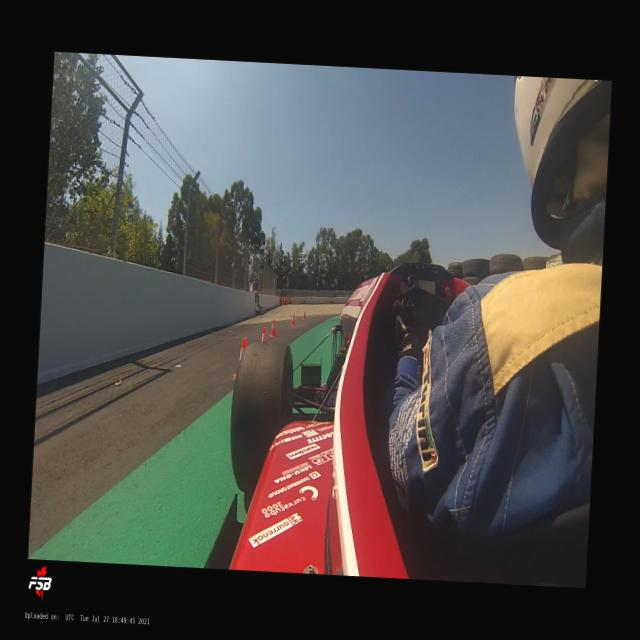orange_cone: (233, 338, 248, 377), (260, 326, 270, 344), (270, 318, 278, 337), (290, 313, 298, 326), (302, 310, 306, 320), (340, 308, 342, 316)
